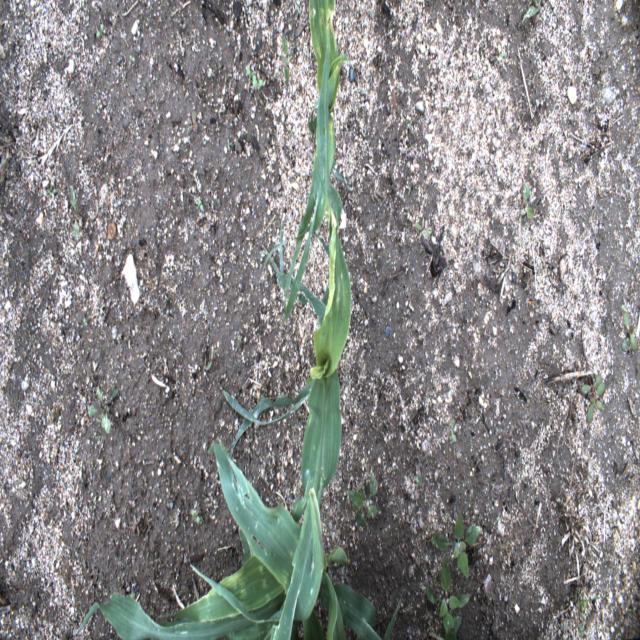crop: (78, 437, 402, 639), (222, 205, 352, 636), (264, 0, 353, 320)
weed: (426, 555, 471, 637), (430, 511, 481, 579), (347, 474, 379, 529), (88, 385, 118, 433), (580, 372, 606, 423), (578, 592, 604, 638), (622, 302, 636, 353), (280, 33, 291, 85), (70, 185, 80, 240), (522, 182, 536, 220), (521, 0, 544, 23), (414, 214, 432, 240), (245, 66, 266, 87), (186, 109, 197, 135), (190, 501, 200, 527), (450, 416, 456, 443), (96, 21, 105, 39), (45, 185, 56, 198), (197, 197, 205, 213), (130, 55, 135, 62)
